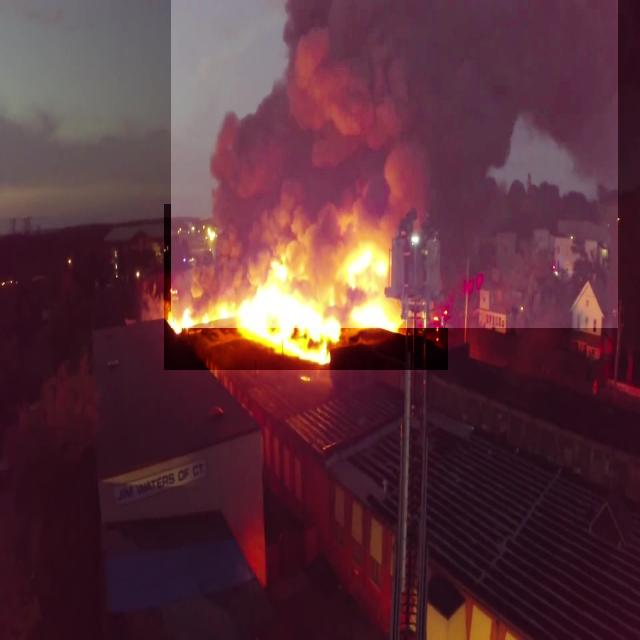Fire: (164, 204, 448, 370)
Smoke: (171, 0, 618, 328)
